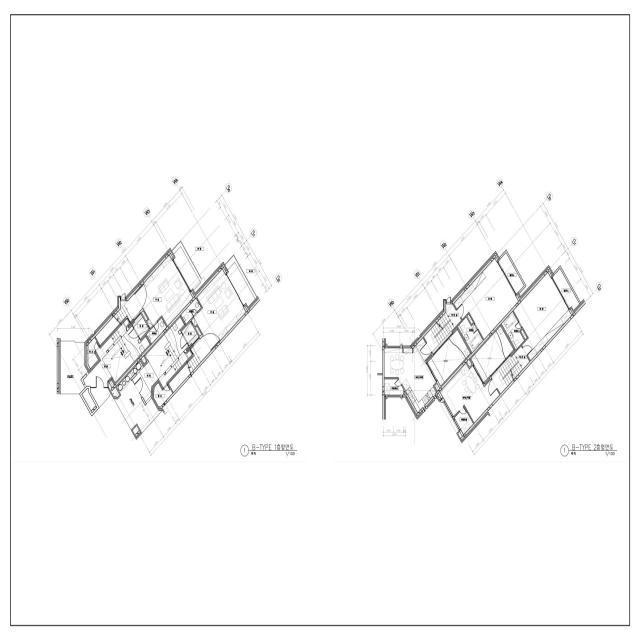space_bedroom: (513, 272, 572, 361), (454, 258, 518, 340)
space_front: (181, 322, 199, 346), (133, 314, 149, 339)
space_kitchen: (384, 338, 437, 413), (440, 363, 500, 423)
space_living_room: (191, 269, 246, 350), (135, 255, 193, 328)
space_multipurpose_space: (454, 407, 473, 435), (384, 379, 403, 395)
space_other: (471, 326, 514, 382), (428, 330, 470, 386), (95, 317, 120, 345), (169, 363, 190, 392), (153, 383, 173, 407), (88, 338, 99, 369), (195, 326, 202, 336), (467, 314, 473, 324), (521, 330, 527, 340), (142, 311, 148, 321), (467, 360, 472, 367)
space_staircase: (492, 346, 530, 394), (424, 304, 461, 352), (188, 336, 211, 373), (114, 294, 142, 323)
space_toilet: (458, 317, 483, 353), (501, 312, 524, 350), (181, 298, 201, 324), (147, 318, 167, 344)
